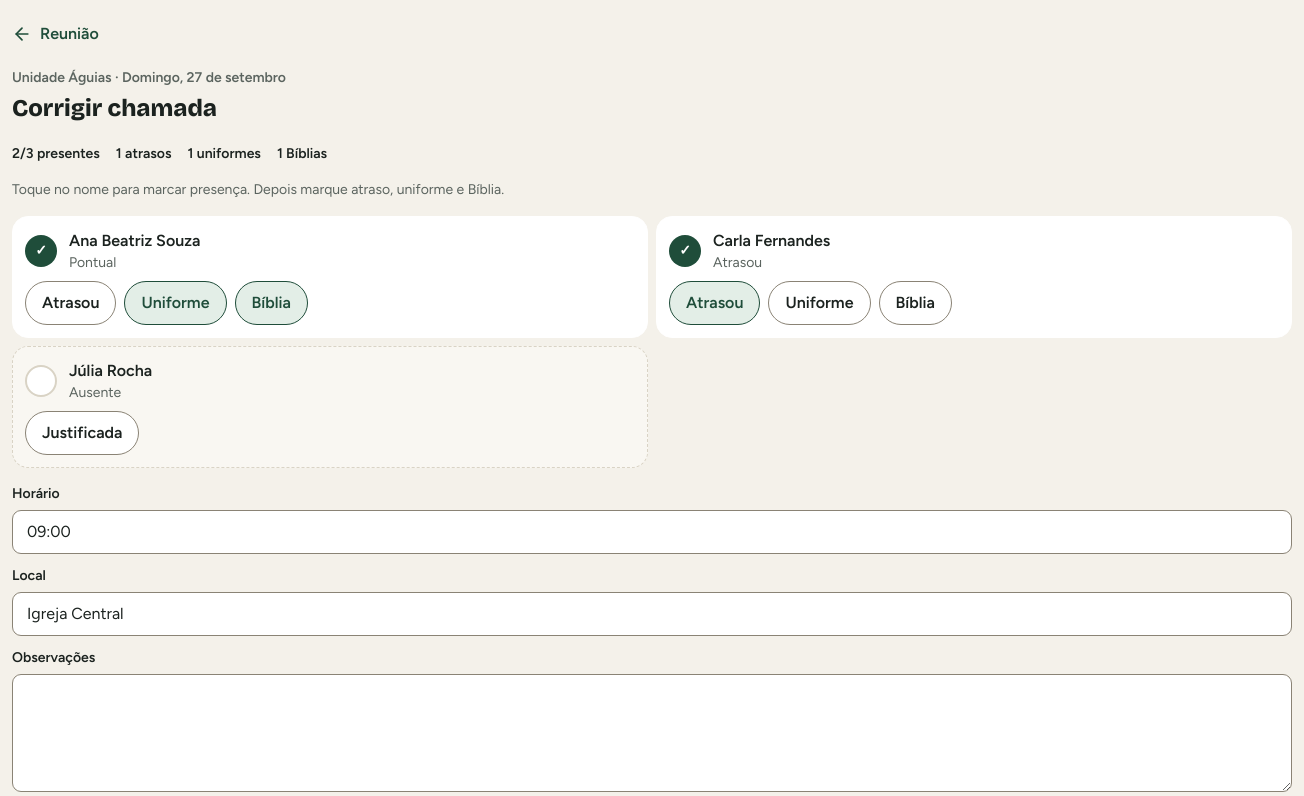
Test: corrigir chamada (Adm) › sem internet depois de salvar com avisos, o aviso de internet vem além do retorno, e o "Ver a reunião" ficam
Click the button "✓ Júlia Rocha Ausente": (41, 381) [25,359,635,403]
(page scrolled)
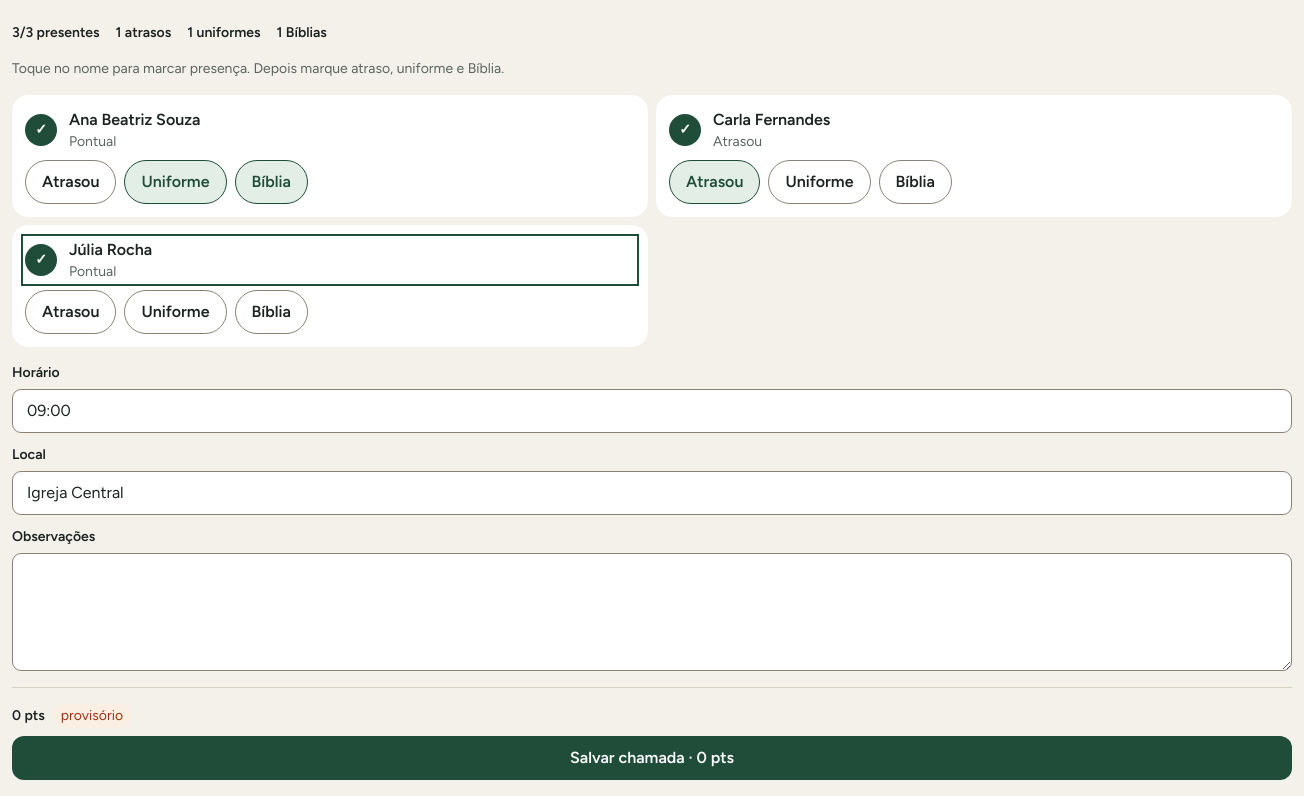
Click the button "Salvar chamada · 0 pts": (652, 758) [12,736,1292,780]
(page scrolled)
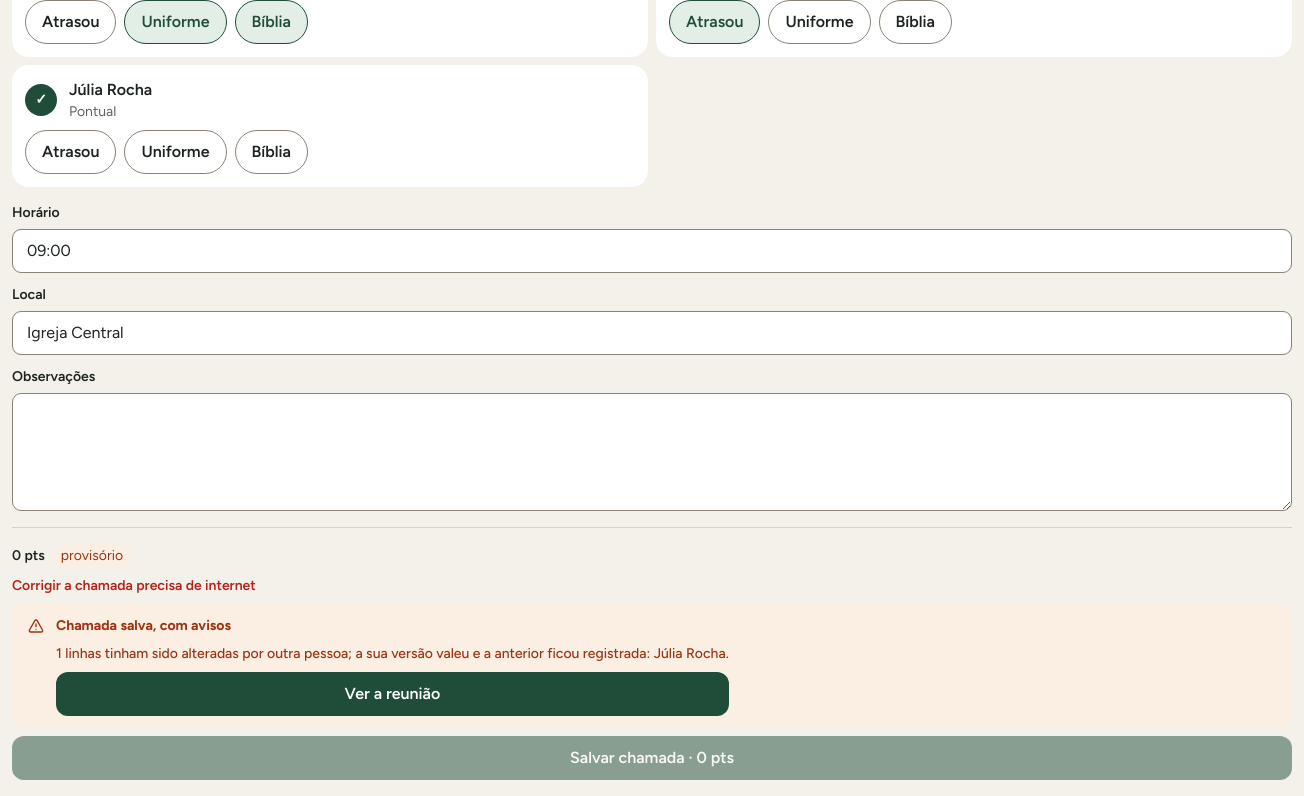
Check: the text "Corrigir a chamada precisa de internet" is shown, box [12,577,256,594]
Check: the text "Chamada salva, com avisos" is shown, box [56,617,231,634]
Check: the link "Ver a reunião" is shown, box [56,672,729,716]
